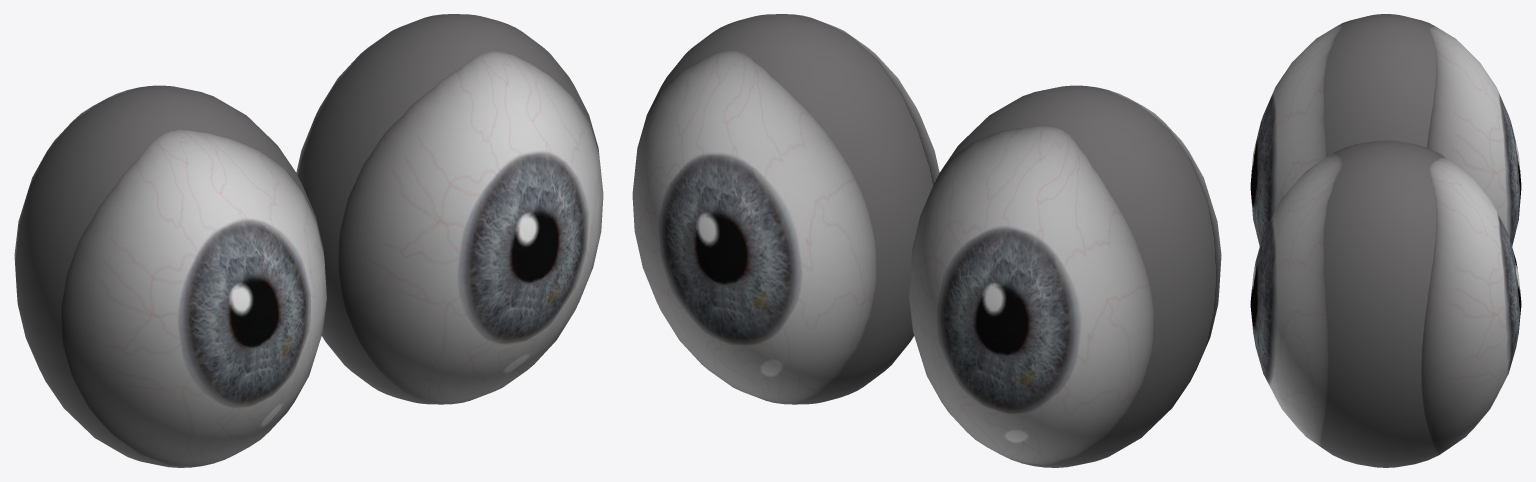
Rendered from ogen.FBX.
The picture shows the model from 3 angles, left to right: view 1: azimuth 30°, elevation 25°; view 2: azimuth 150°, elevation 25°; view 3: azimuth 270°, elevation 25°; orthographic projection. The views are drawn at different scales.
Parts seen in each view (by area): view 1: Sphere002, Sphere001; view 2: Sphere002, Sphere001; view 3: Sphere001, Sphere002.
Part boxes in pixels (left/top/right/bottom): Sphere002: left=14, top=85, right=326, bottom=467; Sphere001: left=296, top=14, right=603, bottom=404; Sphere002: left=909, top=85, right=1221, bottom=467; Sphere001: left=632, top=14, right=939, bottom=404; Sphere001: left=1250, top=140, right=1521, bottom=467; Sphere002: left=1250, top=14, right=1521, bottom=246.
Size of the model in its own units: 39.63 by 25.08 by 19.5.
Materials: 1 (1 with a texture image).
